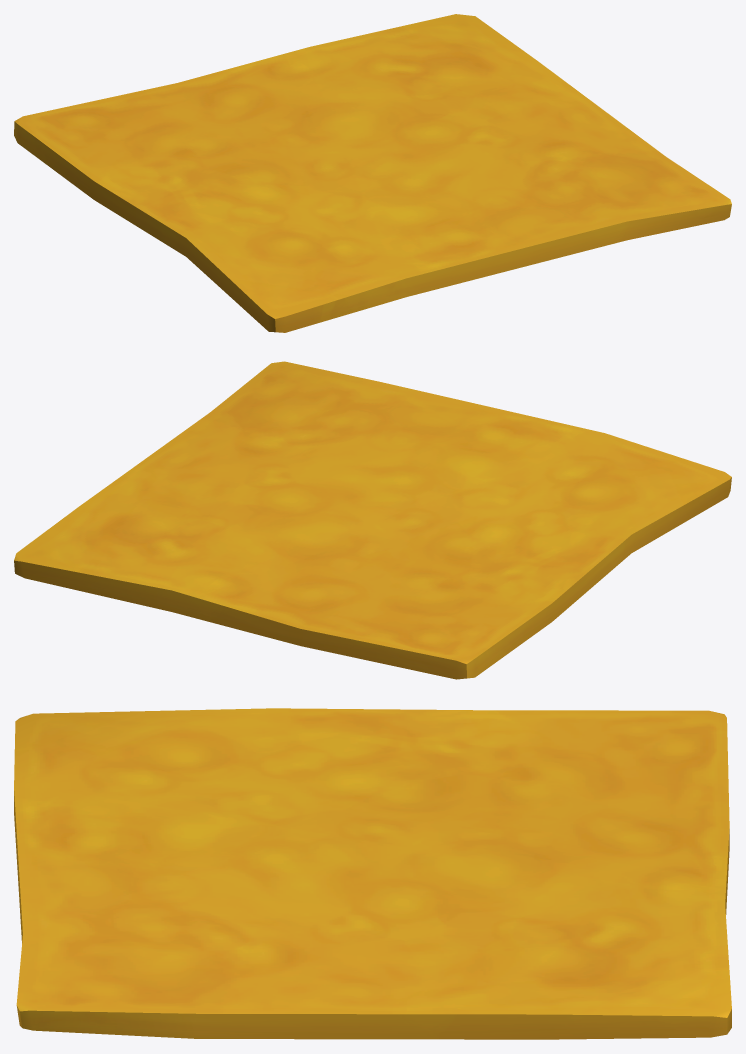
Rendered from SM_CheeseSliceMelted.glb.
The picture shows the model from 3 angles, top to bottom: view 1: azimuth 30°, elevation 25°; view 2: azimuth 150°, elevation 25°; view 3: azimuth 270°, elevation 25°; orthographic projection. The views are drawn at different scales.
Parts seen in each view (by area): view 1: SM_CheeseSliceMelted; view 2: SM_CheeseSliceMelted; view 3: SM_CheeseSliceMelted.
Boxes of the visible parts, bbox=[...] form: SM_CheeseSliceMelted: bbox=[14, 14, 731, 332]; SM_CheeseSliceMelted: bbox=[14, 361, 731, 679]; SM_CheeseSliceMelted: bbox=[14, 708, 731, 1039].
Size of the model in its own units: 0.1801 by 0.0103 by 0.1812.
Materials: 1 (1 with a texture image).
